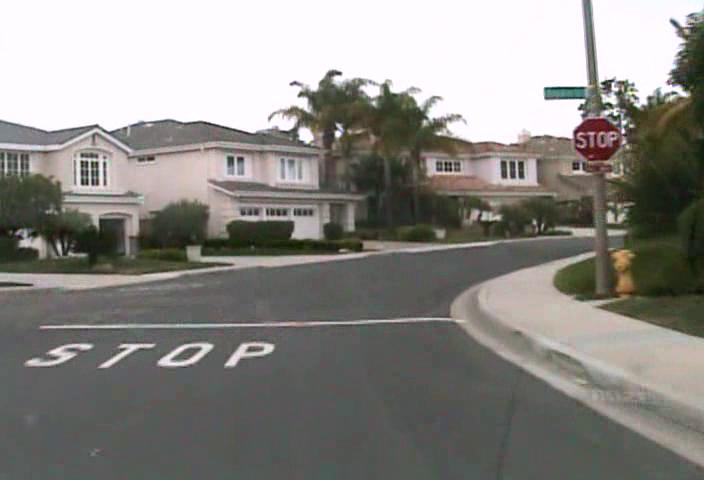stop: (572, 116, 622, 163)
